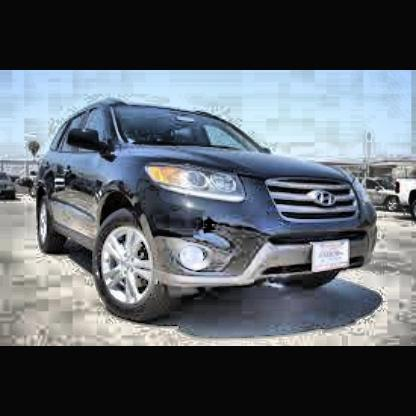Hyundai Santa Fe SUV 2012: (40, 100, 380, 316)
